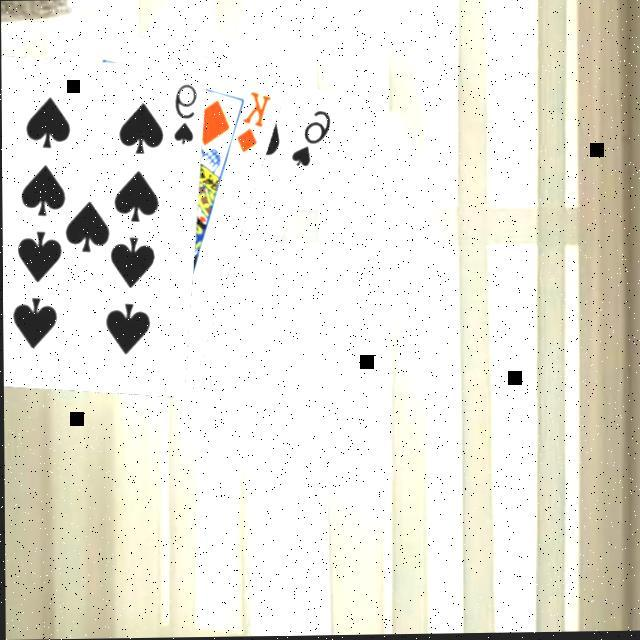6S: (286, 108, 334, 172)
9S: (169, 82, 199, 150)
KD: (230, 89, 273, 158)
